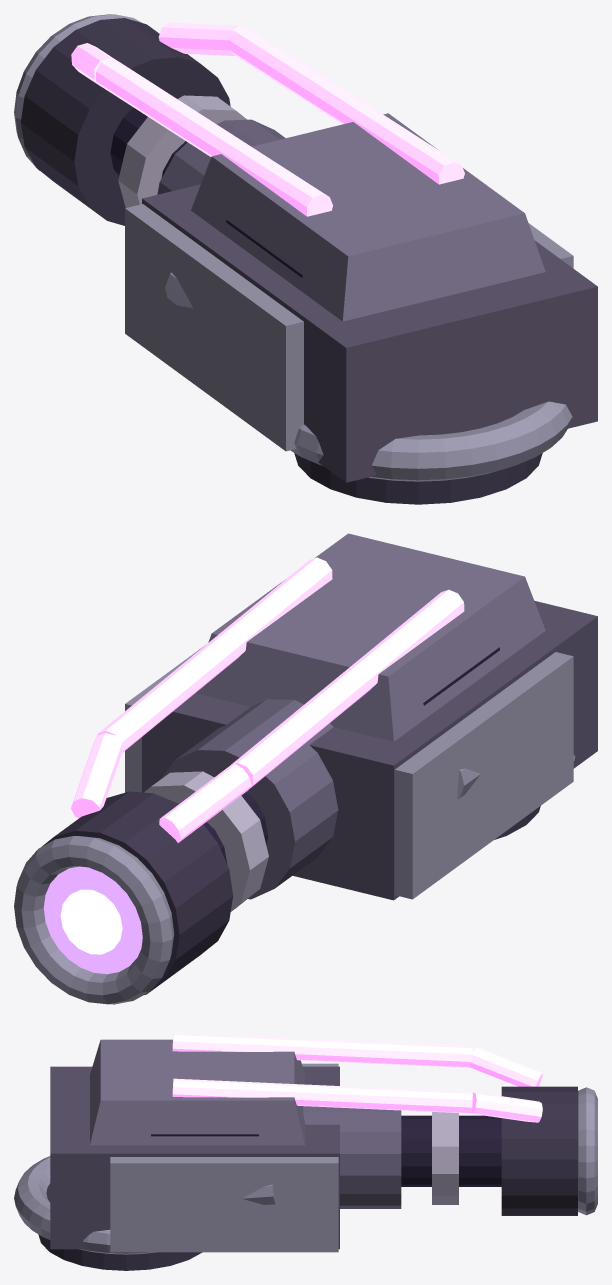
Rendered from Simulant_Dreadwing_PulseCannon.glb.
The picture shows the model from 3 angles, top to bottom: view 1: azimuth 30°, elevation 25°; view 2: azimuth 150°, elevation 25°; view 3: azimuth 270°, elevation 25°; orthographic projection. The views are drawn at different scales.
Parts seen in each view (by area): view 1: Cannon_03_Mechanical_Carriage, Cannon_04_Armoured_Top_Cowl, Cannon_05_L_Side_Cheek, Cannon_11_Muzzle_Shroud, Cannon_02_Pivot_Bearing, Cannon_07_L_Violet_Rail_00, Cannon_07_R_Violet_Rail_00, Cannon_01_Pivot_Rotation_Base, Cannon_10_Barrel_Collar_2, Cannon_08_Receiver, Cannon_07_R_Violet_Rail_01, Cannon_13_Muzzle_Rim (+2 smaller); view 2: Cannon_04_Armoured_Top_Cowl, Cannon_03_Mechanical_Carriage, Cannon_05_L_Side_Cheek, Cannon_13_Muzzle_Rim, Cannon_08_Receiver, Cannon_11_Muzzle_Shroud, Cannon_07_L_Violet_Rail_00, Cannon_07_R_Violet_Rail_00, Cannon_10_Barrel_Collar_2, Cannon_12_Muzzle_Light, Cannon_14_Muzzle_Aperture, Cannon_07_L_Violet_Rail_01 (+2 smaller); view 3: Cannon_05_R_Side_Cheek, Cannon_04_Armoured_Top_Cowl, Cannon_03_Mechanical_Carriage, Cannon_11_Muzzle_Shroud, Cannon_08_Receiver, Cannon_07_R_Violet_Rail_00, Cannon_07_L_Violet_Rail_00, Cannon_09_Main_Barrel, Cannon_02_Pivot_Bearing, Cannon_10_Barrel_Collar_2, Cannon_13_Muzzle_Rim, Cannon_01_Pivot_Rotation_Base (+3 smaller).
Boxes of the visible parts, x1,y1,x2,y2 form: Cannon_03_Mechanical_Carriage: [142, 184, 597, 482]; Cannon_04_Armoured_Top_Cowl: [191, 113, 545, 321]; Cannon_05_L_Side_Cheek: [125, 204, 303, 451]; Cannon_11_Muzzle_Shroud: [20, 18, 230, 225]; Cannon_02_Pivot_Bearing: [290, 401, 572, 481]; Cannon_07_L_Violet_Rail_00: [96, 58, 332, 216]; Cannon_07_R_Violet_Rail_00: [227, 26, 464, 184]; Cannon_01_Pivot_Rotation_Base: [294, 453, 542, 504]; Cannon_10_Barrel_Collar_2: [118, 95, 246, 207]; Cannon_08_Receiver: [157, 119, 285, 194]; Cannon_07_R_Violet_Rail_01: [158, 22, 241, 55]; Cannon_13_Muzzle_Rim: [14, 14, 141, 170]; Cannon_04_Armoured_Top_Cowl: [195, 533, 545, 741]; Cannon_03_Mechanical_Carriage: [142, 600, 597, 900]; Cannon_05_L_Side_Cheek: [394, 652, 573, 899]; Cannon_13_Muzzle_Rim: [14, 836, 174, 1004]; Cannon_08_Receiver: [160, 699, 338, 899]; Cannon_11_Muzzle_Shroud: [42, 791, 233, 994]; Cannon_07_L_Violet_Rail_00: [230, 589, 464, 788]; Cannon_07_R_Violet_Rail_00: [97, 557, 332, 752]; Cannon_10_Barrel_Collar_2: [144, 771, 268, 911]; Cannon_12_Muzzle_Light: [44, 866, 142, 974]; Cannon_14_Muzzle_Aperture: [60, 889, 122, 954]; Cannon_07_L_Violet_Rail_01: [159, 764, 251, 842]; Cannon_05_R_Side_Cheek: [110, 1157, 338, 1252]; Cannon_04_Armoured_Top_Cowl: [90, 1039, 305, 1145]; Cannon_03_Mechanical_Carriage: [50, 1066, 339, 1249]; Cannon_11_Muzzle_Shroud: [501, 1086, 577, 1215]; Cannon_08_Receiver: [302, 1106, 401, 1208]; Cannon_07_R_Violet_Rail_00: [172, 1078, 472, 1113]; Cannon_07_L_Violet_Rail_00: [172, 1033, 472, 1067]; Cannon_09_Main_Barrel: [401, 1115, 501, 1186]; Cannon_02_Pivot_Bearing: [14, 1156, 156, 1254]; Cannon_10_Barrel_Collar_2: [432, 1112, 458, 1204]; Cannon_13_Muzzle_Rim: [578, 1087, 597, 1215]; Cannon_01_Pivot_Rotation_Base: [38, 1184, 202, 1270].
Size of the model in its own units: 0.9985 by 0.7943 by 2.38.
